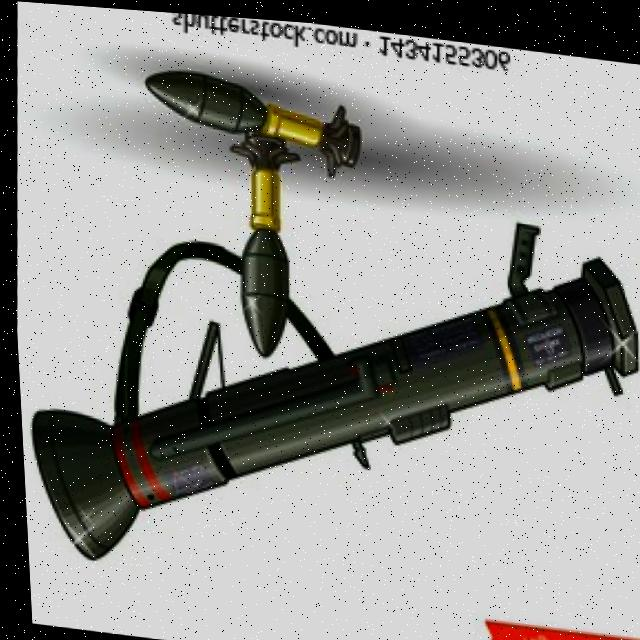grenade: (137, 60, 365, 178), (214, 122, 311, 357)
rocket: (9, 157, 640, 623)
